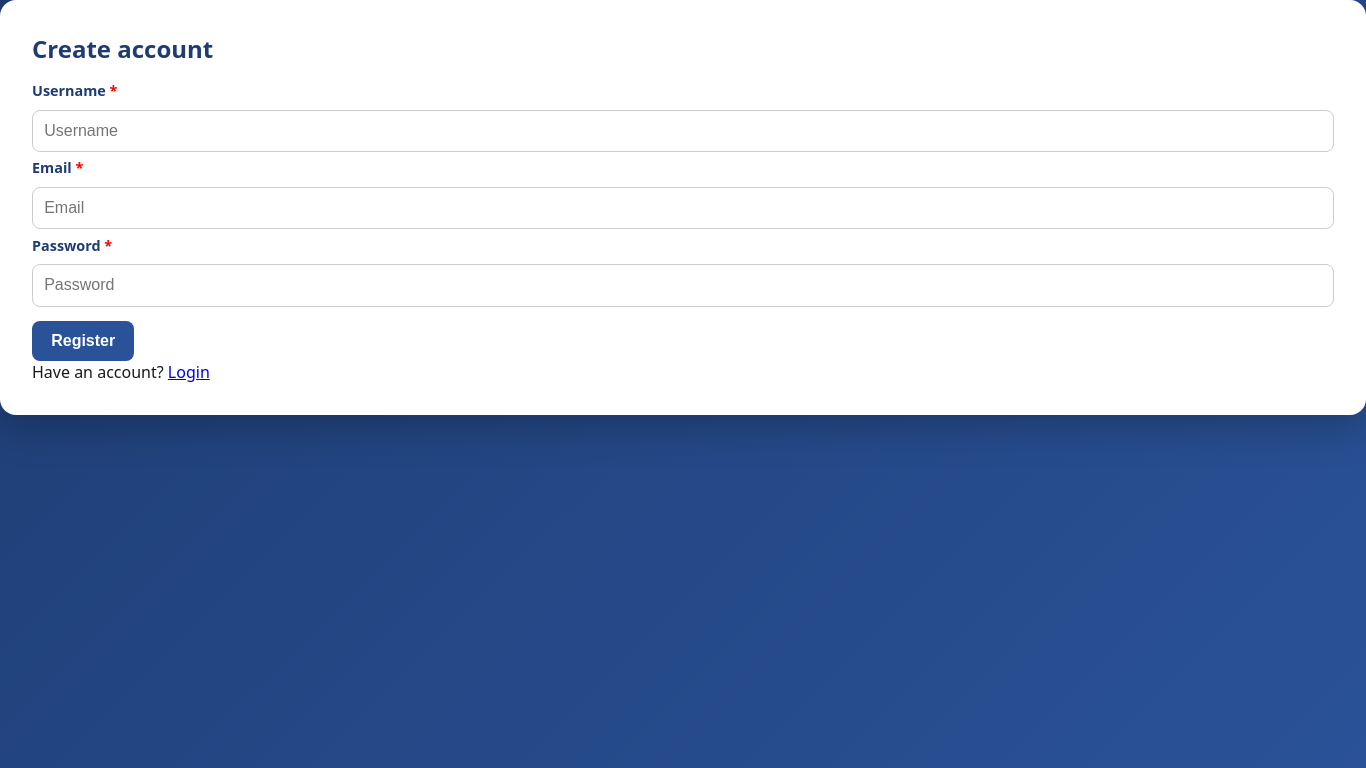
Register page › shows validation errors for invalid input
Type "a" into the field with placeholder "Username" at coordinates (683, 131), box top-left (32, 110), bottom-right (1334, 152)
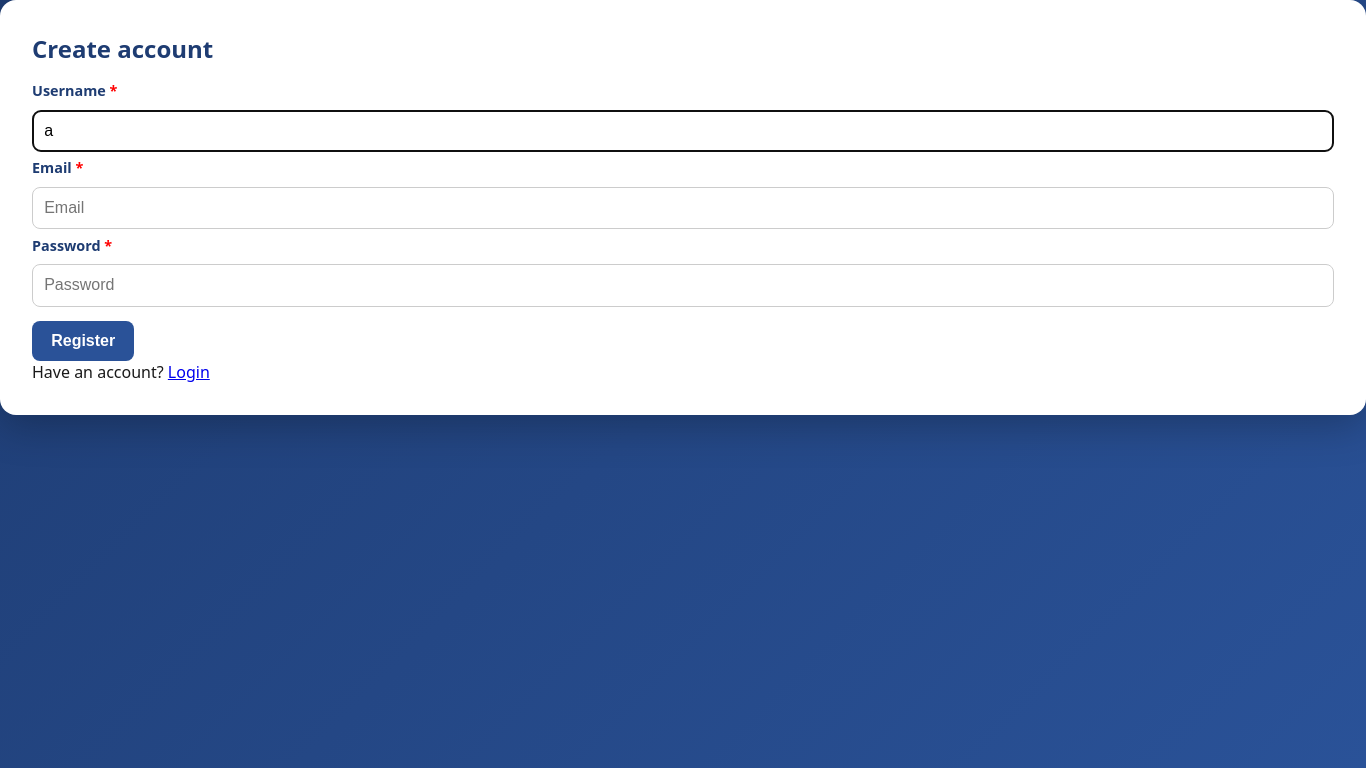
Type "not-an-email" into the field with placeholder "Email" at coordinates (683, 208), box top-left (32, 187), bottom-right (1334, 229)
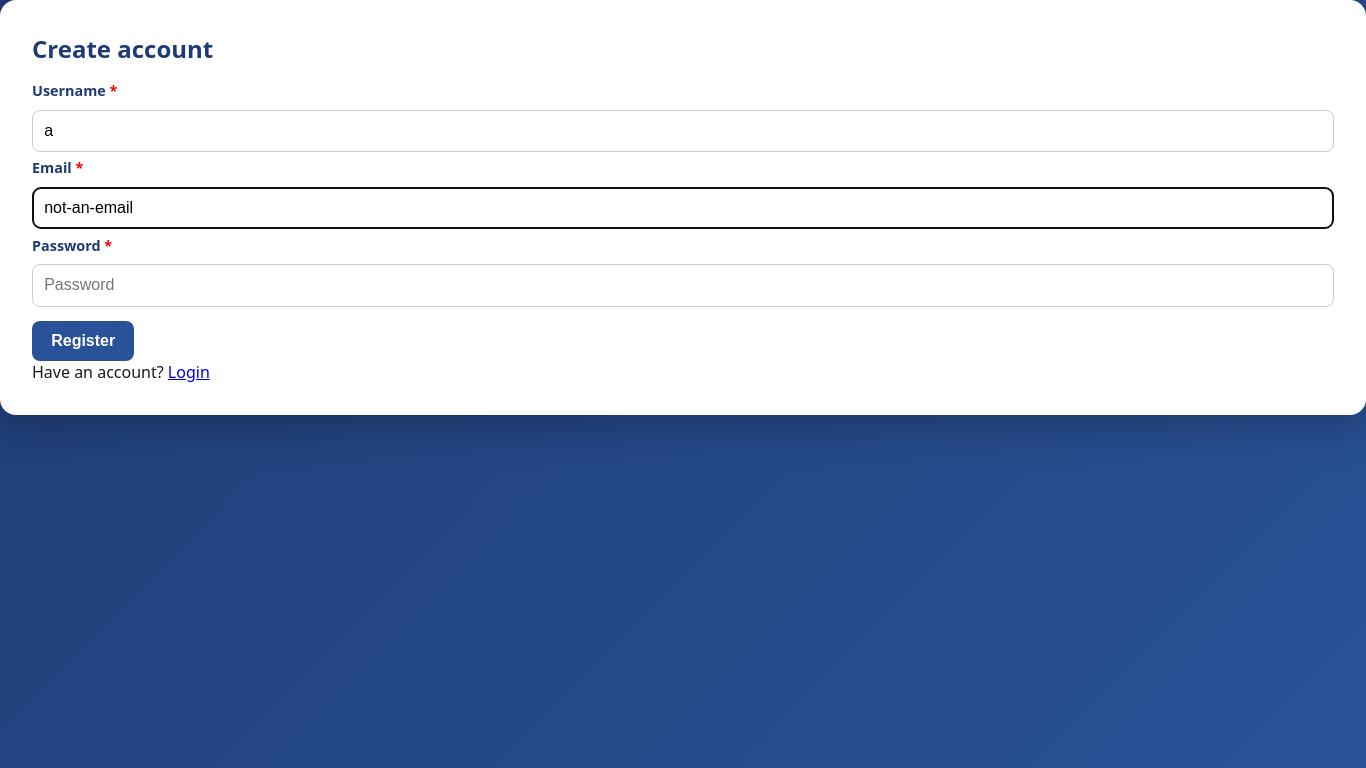
Type "short" into the password field with placeholder "Password" at coordinates (683, 286), box top-left (32, 264), bottom-right (1334, 307)
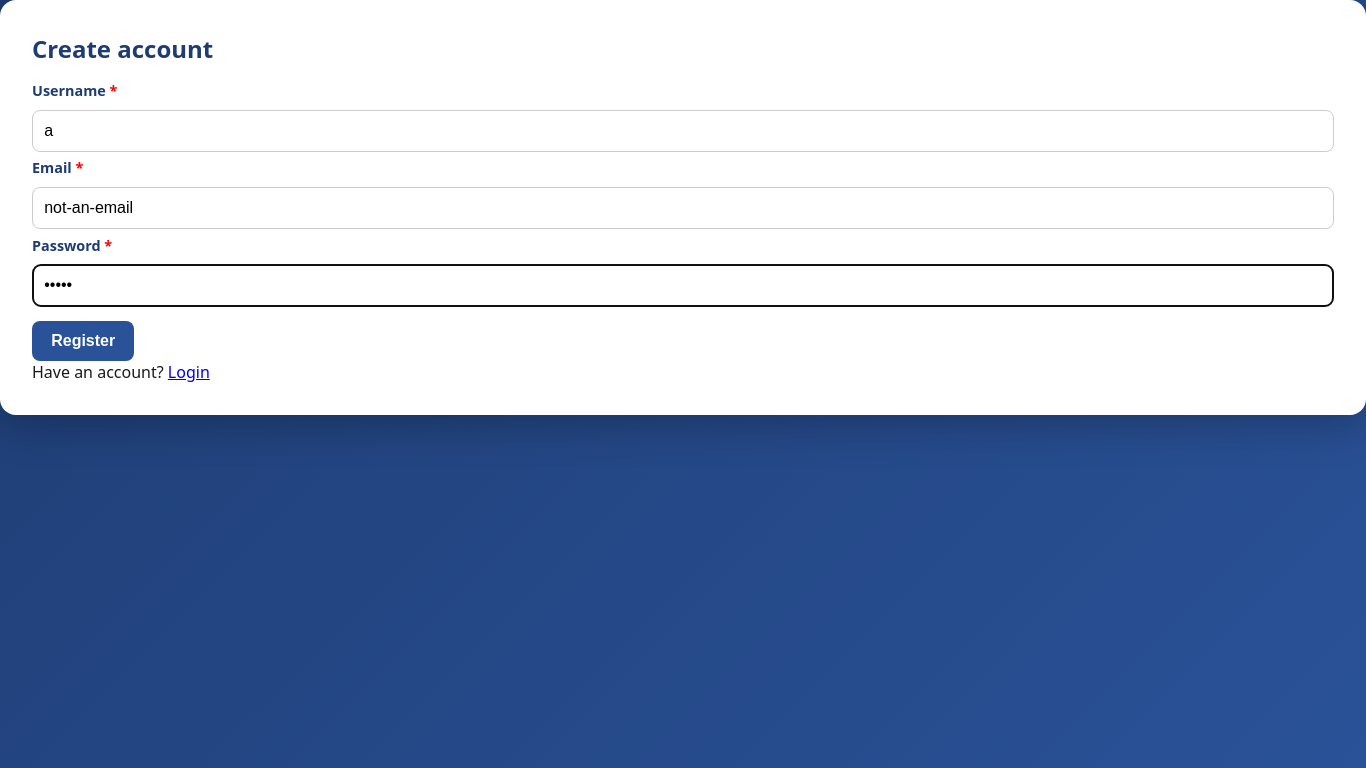
Click the button "Register" at coordinates (83, 341), box top-left (32, 321), bottom-right (134, 361)
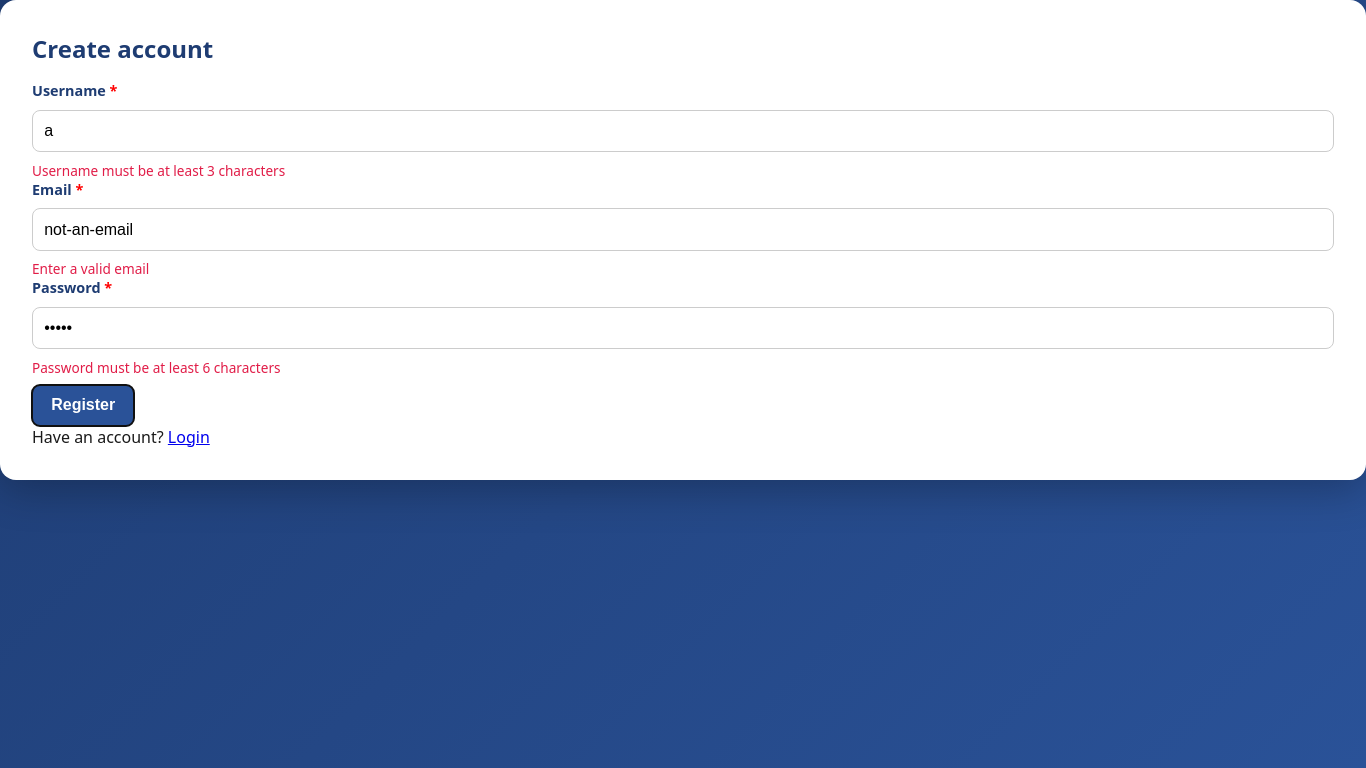
Check: the text "Username must be at least 3 characters" is shown, box top-left (32, 161), bottom-right (285, 180)
Check: the text "Enter a valid email" is shown, box top-left (32, 260), bottom-right (149, 278)
Check: the text "Password must be at least 6 characters" is shown, box top-left (32, 358), bottom-right (280, 377)
